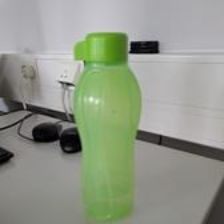bottle: (71, 29, 143, 224)
